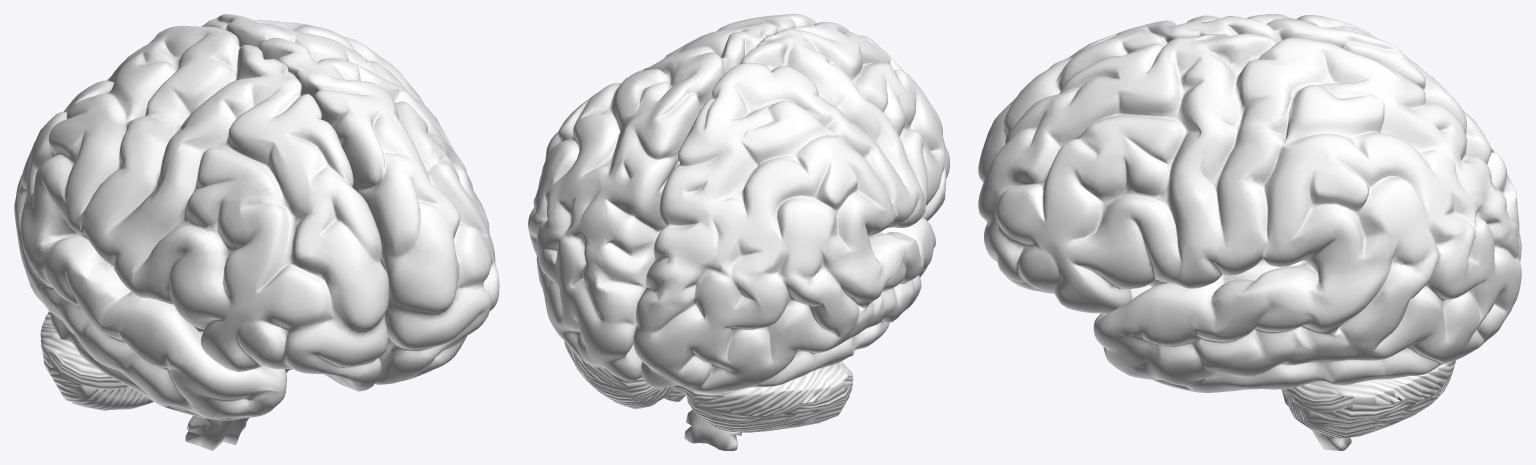
Rendered from Brain.glb.
3 renders of one model, left to right at view 1: azimuth 30°, elevation 25°; view 2: azimuth 150°, elevation 25°; view 3: azimuth 270°, elevation 25°, orthographic. The views are drawn at different scales.
Parts seen in each view (by area): view 1: Brain_Part_06, Brain_Part_04, Brain_Part_02, Brain_Part_05; view 2: Brain_Part_06, Brain_Part_04, Brain_Part_02, Brain_Part_05; view 3: Brain_Part_04, Brain_Part_06, Brain_Part_02, Brain_Part_05.
Boxes of the visible parts, box(x1,y1,x2,y2) form: Brain_Part_06: box(14, 25, 388, 420); Brain_Part_04: box(201, 14, 499, 384); Brain_Part_02: box(40, 312, 292, 410); Brain_Part_05: box(185, 326, 289, 450); Brain_Part_06: box(633, 22, 949, 392); Brain_Part_04: box(528, 14, 816, 381); Brain_Part_02: box(564, 341, 853, 432); Brain_Part_05: box(684, 409, 741, 450); Brain_Part_04: box(978, 33, 1521, 392); Brain_Part_06: box(978, 14, 1521, 260); Brain_Part_02: box(1283, 360, 1456, 438); Brain_Part_05: box(1149, 259, 1351, 450).
Size of the model in its own units: 0.3796 by 0.4021 by 0.4729.
1 material, 1 textured.
